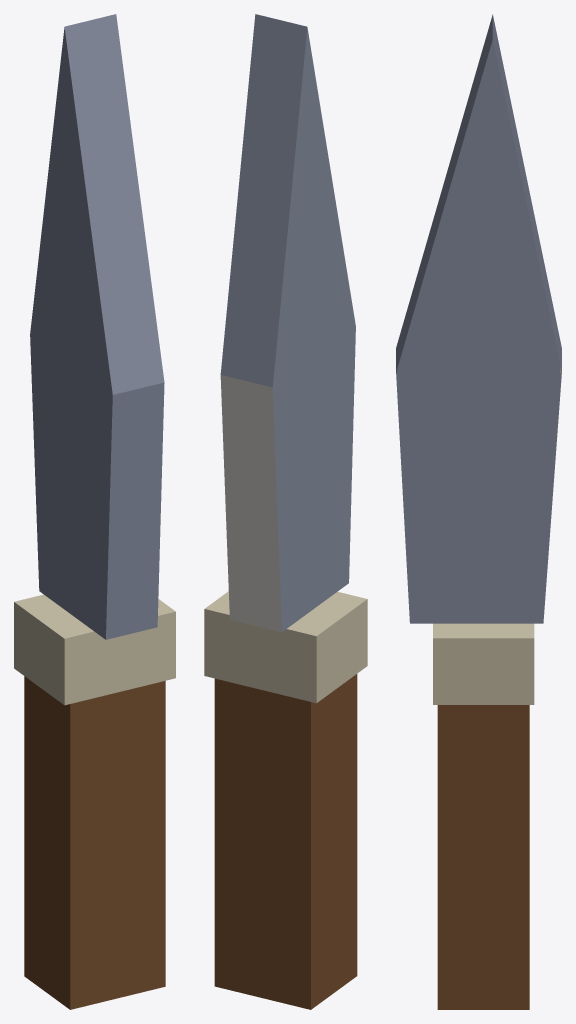
File: wpn_knife_01.fbx
3 views of the same model, side by side, from view 1: azimuth 30°, elevation 25°; view 2: azimuth 150°, elevation 25°; view 3: azimuth 270°, elevation 25° (orthographic).
Parts seen in each view (by area): view 1: wpn_knife_01; view 2: wpn_knife_01; view 3: wpn_knife_01.
Boxes of the visible parts, left/top/right/bottom form: wpn_knife_01: left=14, top=14, right=175, bottom=1009; wpn_knife_01: left=204, top=14, right=367, bottom=1009; wpn_knife_01: left=396, top=14, right=561, bottom=1009.
Bounding box in the file's own units: 0.056 × 0.072 × 0.46.
Materials: 1 (1 with a texture image).
